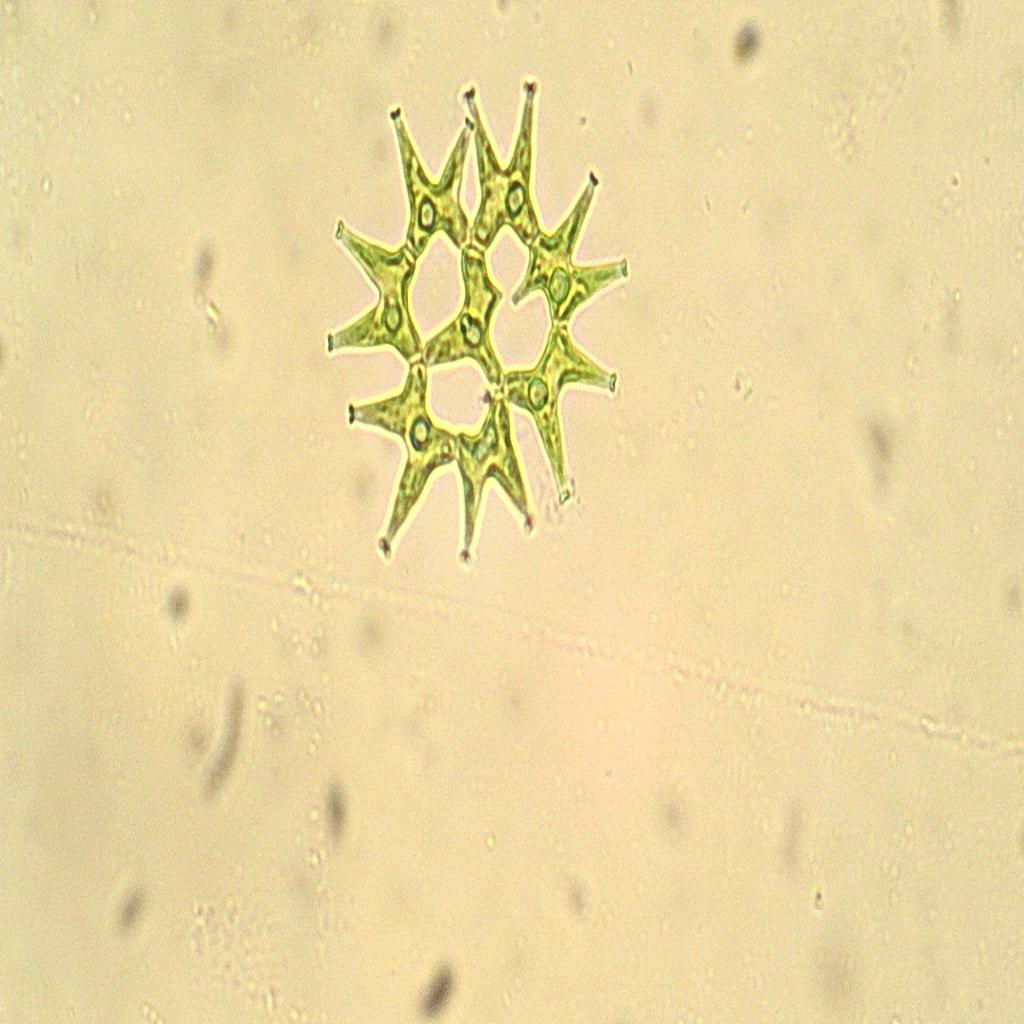Pediastrum_CTH: (319, 64, 637, 588)
